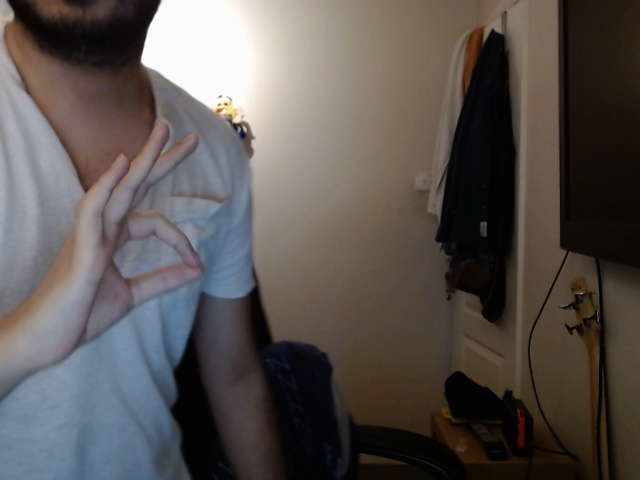Okay: (29, 122, 210, 371)
